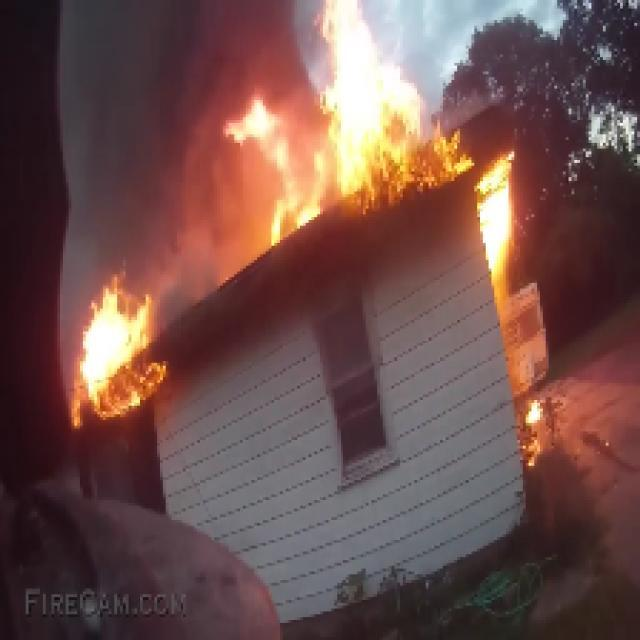Fire: (302, 13, 446, 193), (78, 292, 167, 411)
Smoke: (81, 9, 231, 236)
